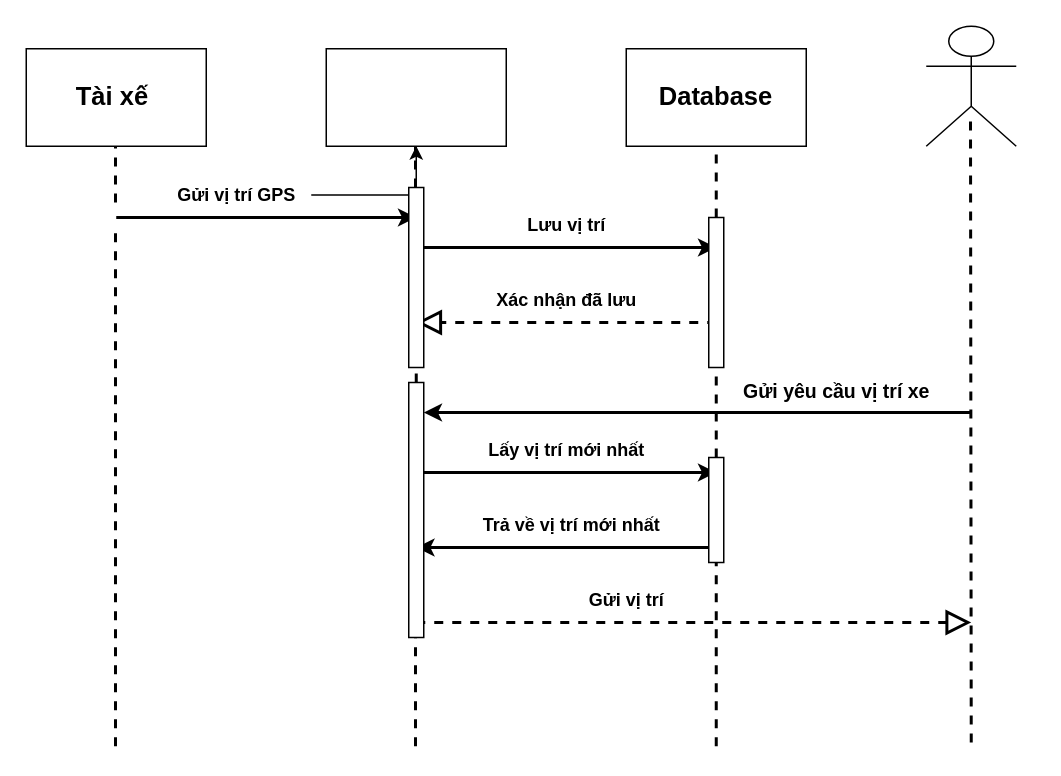
The diagram is 1061 pixels wide and 776 high, and some of its shapes have lost their labels. Here are the shapes that lost their labels. From the top down, the box of each, then its label:
(325, 47, 506, 146): Server
(925, 25, 1016, 146): Phụ Huynh
